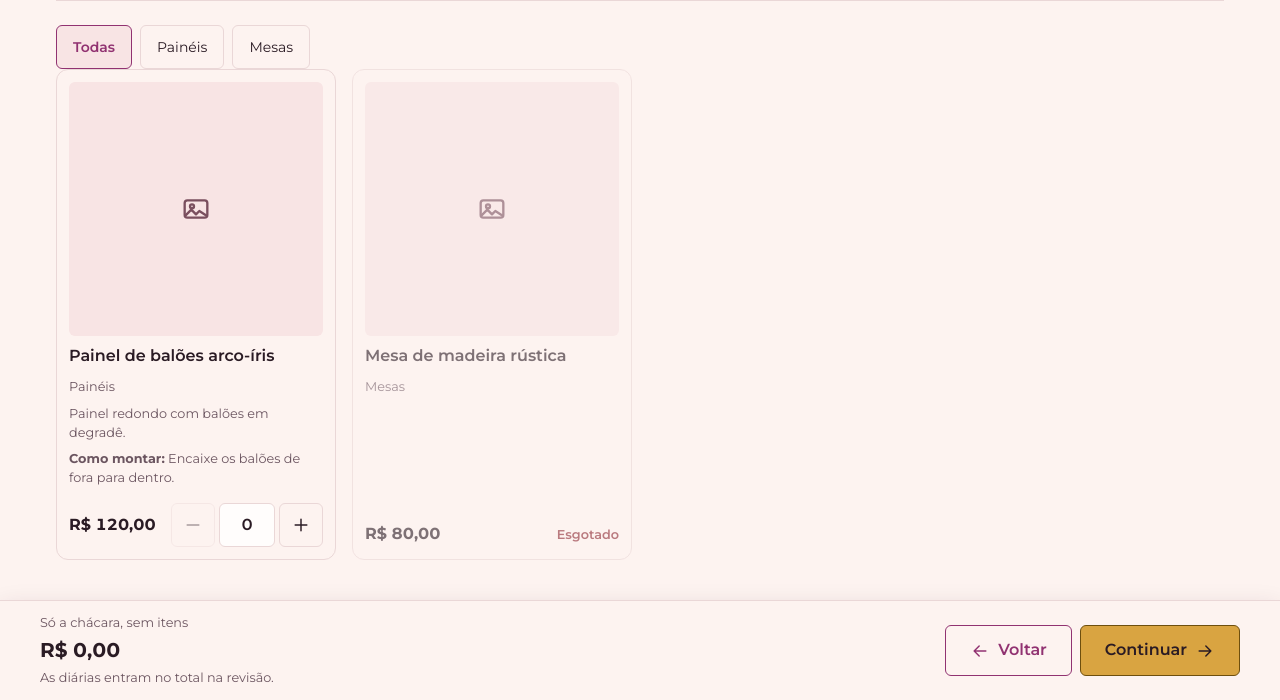
Scenario: BookingWizard, passo de itens › mostra a estimativa como estimativa, deixando as diárias para a revisão
(page scrolled)
Expected: the text "Painel de balões arco-íris" is shown, [69,346,274,366]
Click the button named "Aumentar Painel de balões arco-íris".
click(301, 525)  # box [279,503,323,547]
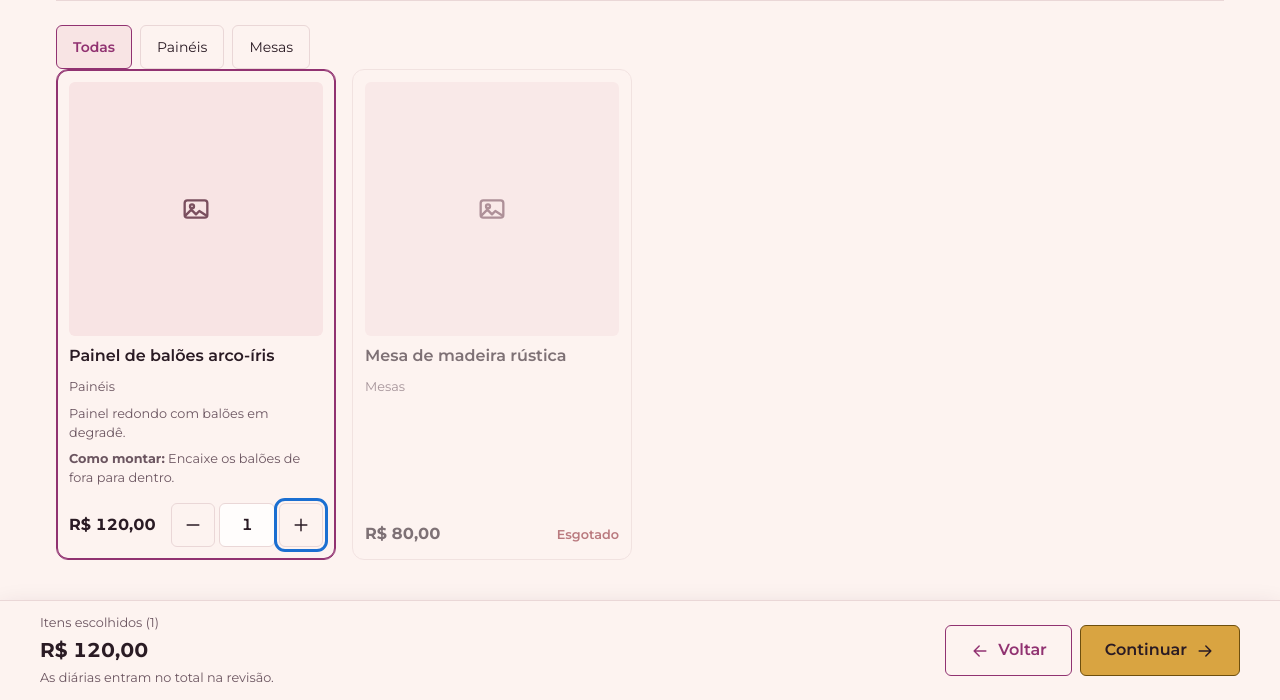
Expected: the text "As diárias entram no total na revisão." is shown, [40,668,274,688]
Expected: the text "Itens escolhidos (1)" is shown, [40,615,159,630]
